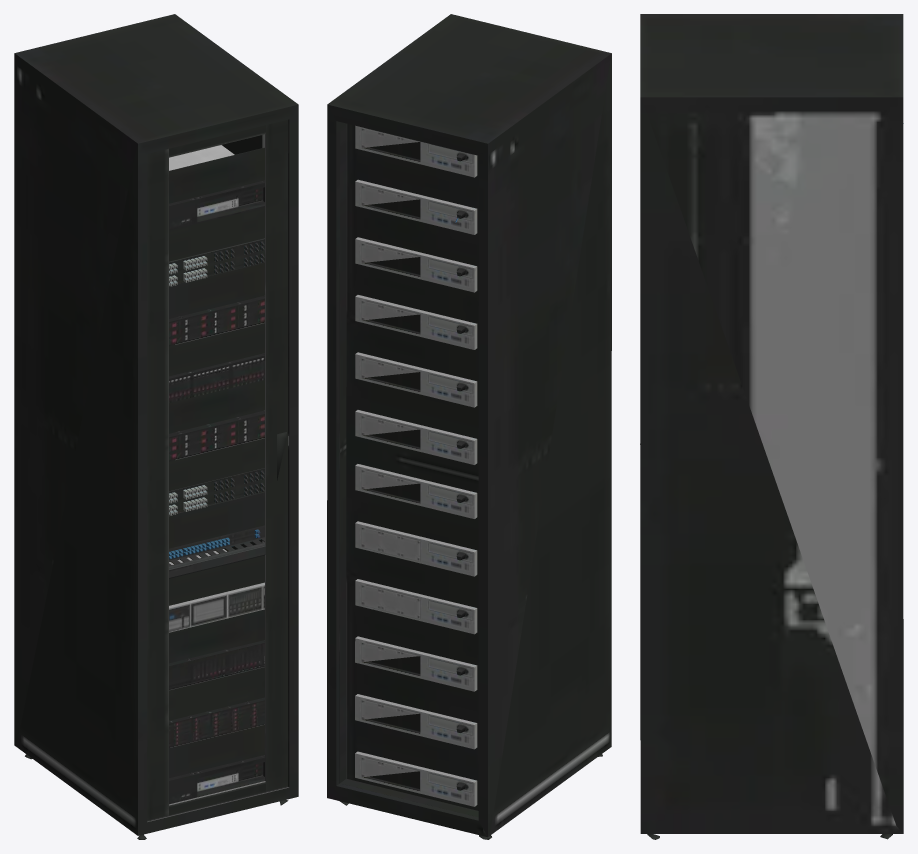
File: server_rack.glb
The picture shows the model from 3 angles, left to right: view 1: azimuth 30°, elevation 25°; view 2: azimuth 150°, elevation 25°; view 3: azimuth 270°, elevation 25°; orthographic projection. The views are drawn at different scales.
Visible parts, largest first — view 1: SM_Server_Case_001_StingrayPBS4_0, SM_Servers_1_001_StingrayPBS3_0, SM_Back_001_StingrayPBS2_0; view 2: SM_Server_Case_001_StingrayPBS4_0, SM_Back_001_StingrayPBS2_0; view 3: SM_Server_Case_001_StingrayPBS4_0.
Boxes of the visible parts, x1,y1,x2,y2 form: SM_Server_Case_001_StingrayPBS4_0: (14, 14, 298, 839); SM_Servers_1_001_StingrayPBS3_0: (169, 145, 264, 804); SM_Back_001_StingrayPBS2_0: (169, 238, 265, 632); SM_Server_Case_001_StingrayPBS4_0: (327, 14, 611, 839); SM_Back_001_StingrayPBS2_0: (355, 125, 477, 806); SM_Server_Case_001_StingrayPBS4_0: (640, 14, 903, 839).
Size of what is drawn, in the model's own units: 0.6 by 2.5 by 0.8024.
3 materials, 3 textured.
